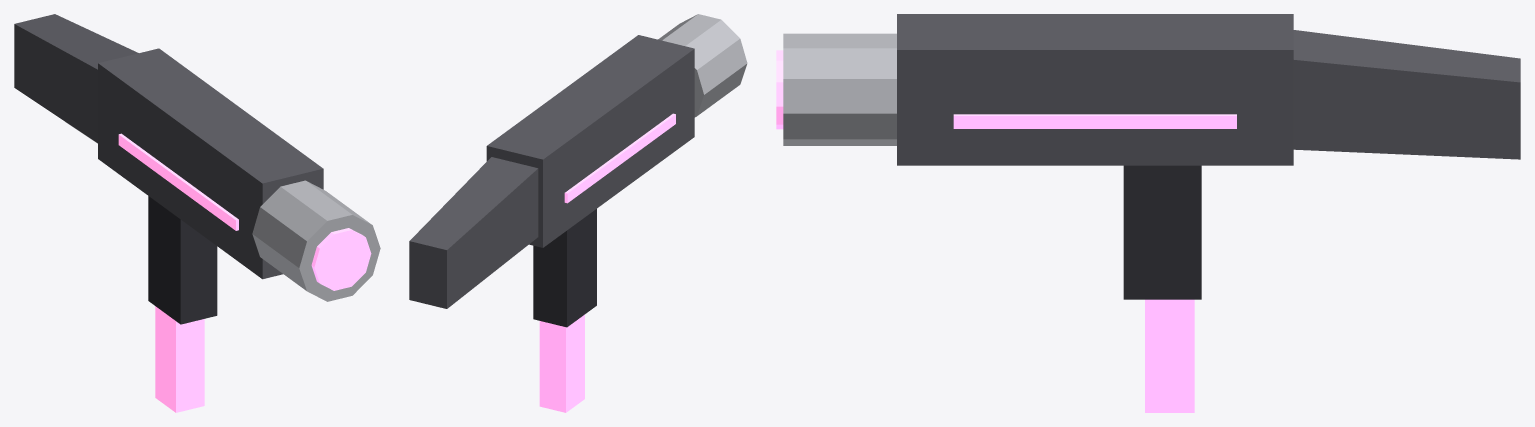
File: weapon_F2_EnergySMG.glb
The picture shows the model from 3 angles, left to right: view 1: azimuth 30°, elevation 25°; view 2: azimuth 150°, elevation 25°; view 3: azimuth 270°, elevation 25°; orthographic projection. The views are drawn at different scales.
Visible parts, largest first — view 1: Body, Mag; view 2: Body, Mag; view 3: Body, Mag.
Boxes of the visible parts, x1,y1,x2,y2 form: Body: [14, 14, 380, 324]; Mag: [155, 306, 204, 412]; Body: [409, 14, 747, 327]; Mag: [539, 314, 584, 412]; Body: [776, 14, 1520, 299]; Mag: [1145, 299, 1194, 412].
Bounding box in the file's own units: 0.08 × 0.29 × 0.525.
